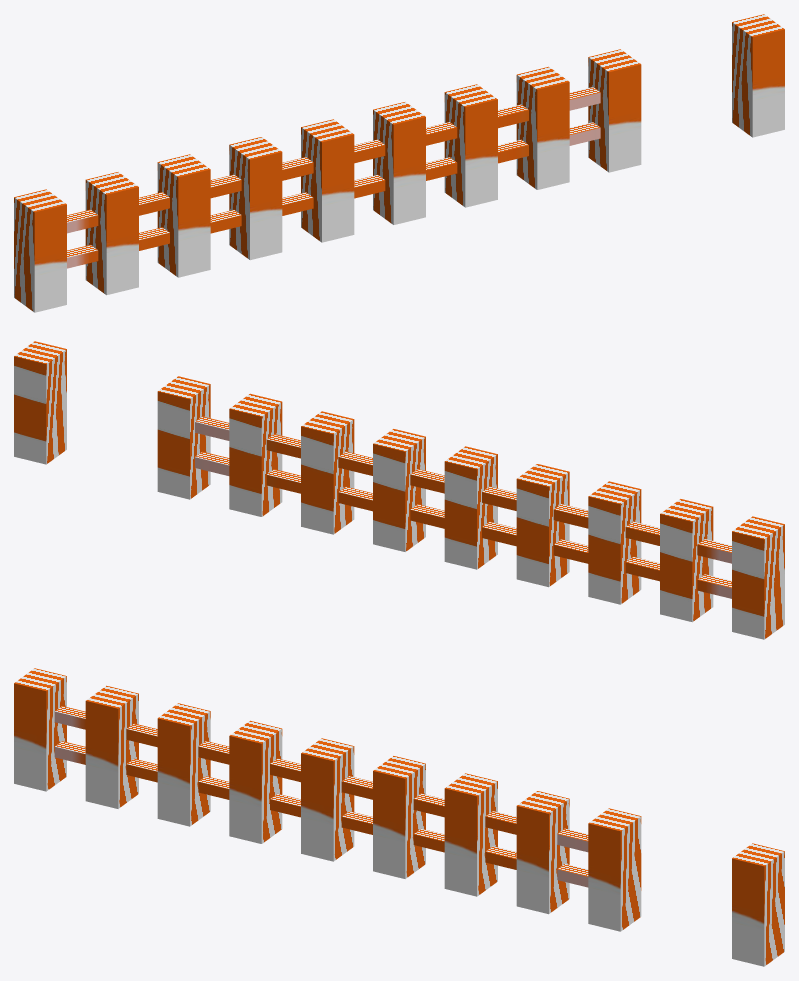
Rendered from Fence0.fbx.
The picture shows the model from 3 angles, top to bottom: view 1: azimuth 30°, elevation 25°; view 2: azimuth 150°, elevation 25°; view 3: azimuth 330°, elevation 25°; orthographic projection.
Parts seen in each view (by area): view 1: fence_short_mesh; view 2: fence_short_mesh; view 3: fence_short_mesh.
Part boxes in pixels (x1,y1,x2,y2): fence_short_mesh: (14,14,784,312); fence_short_mesh: (14,341,784,639); fence_short_mesh: (14,668,784,966).
Size of the model in its own units: 836 by 107 by 39.99.
